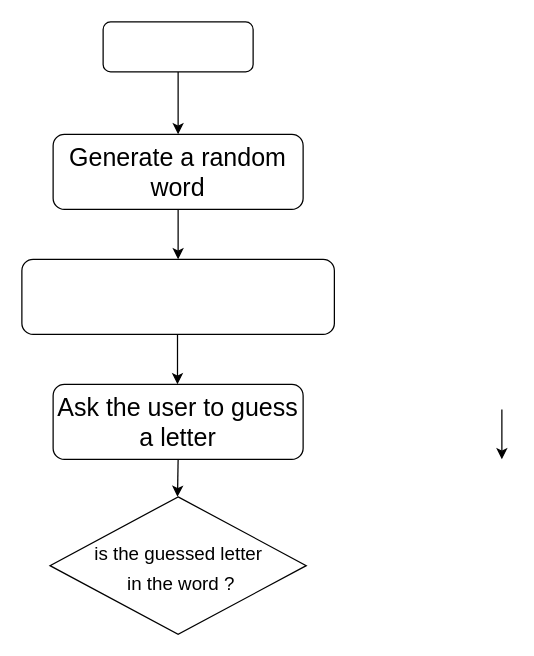
The diagram is 534 pixels wide and 656 high, and some of its shapes have lost their labels. The shapes that lost their labels are listed below. From the top down, each one's centre as x and y in pixels, then its label:
the point at 177,46: start
the point at 177,296: Generate as many blacks as letters in word
